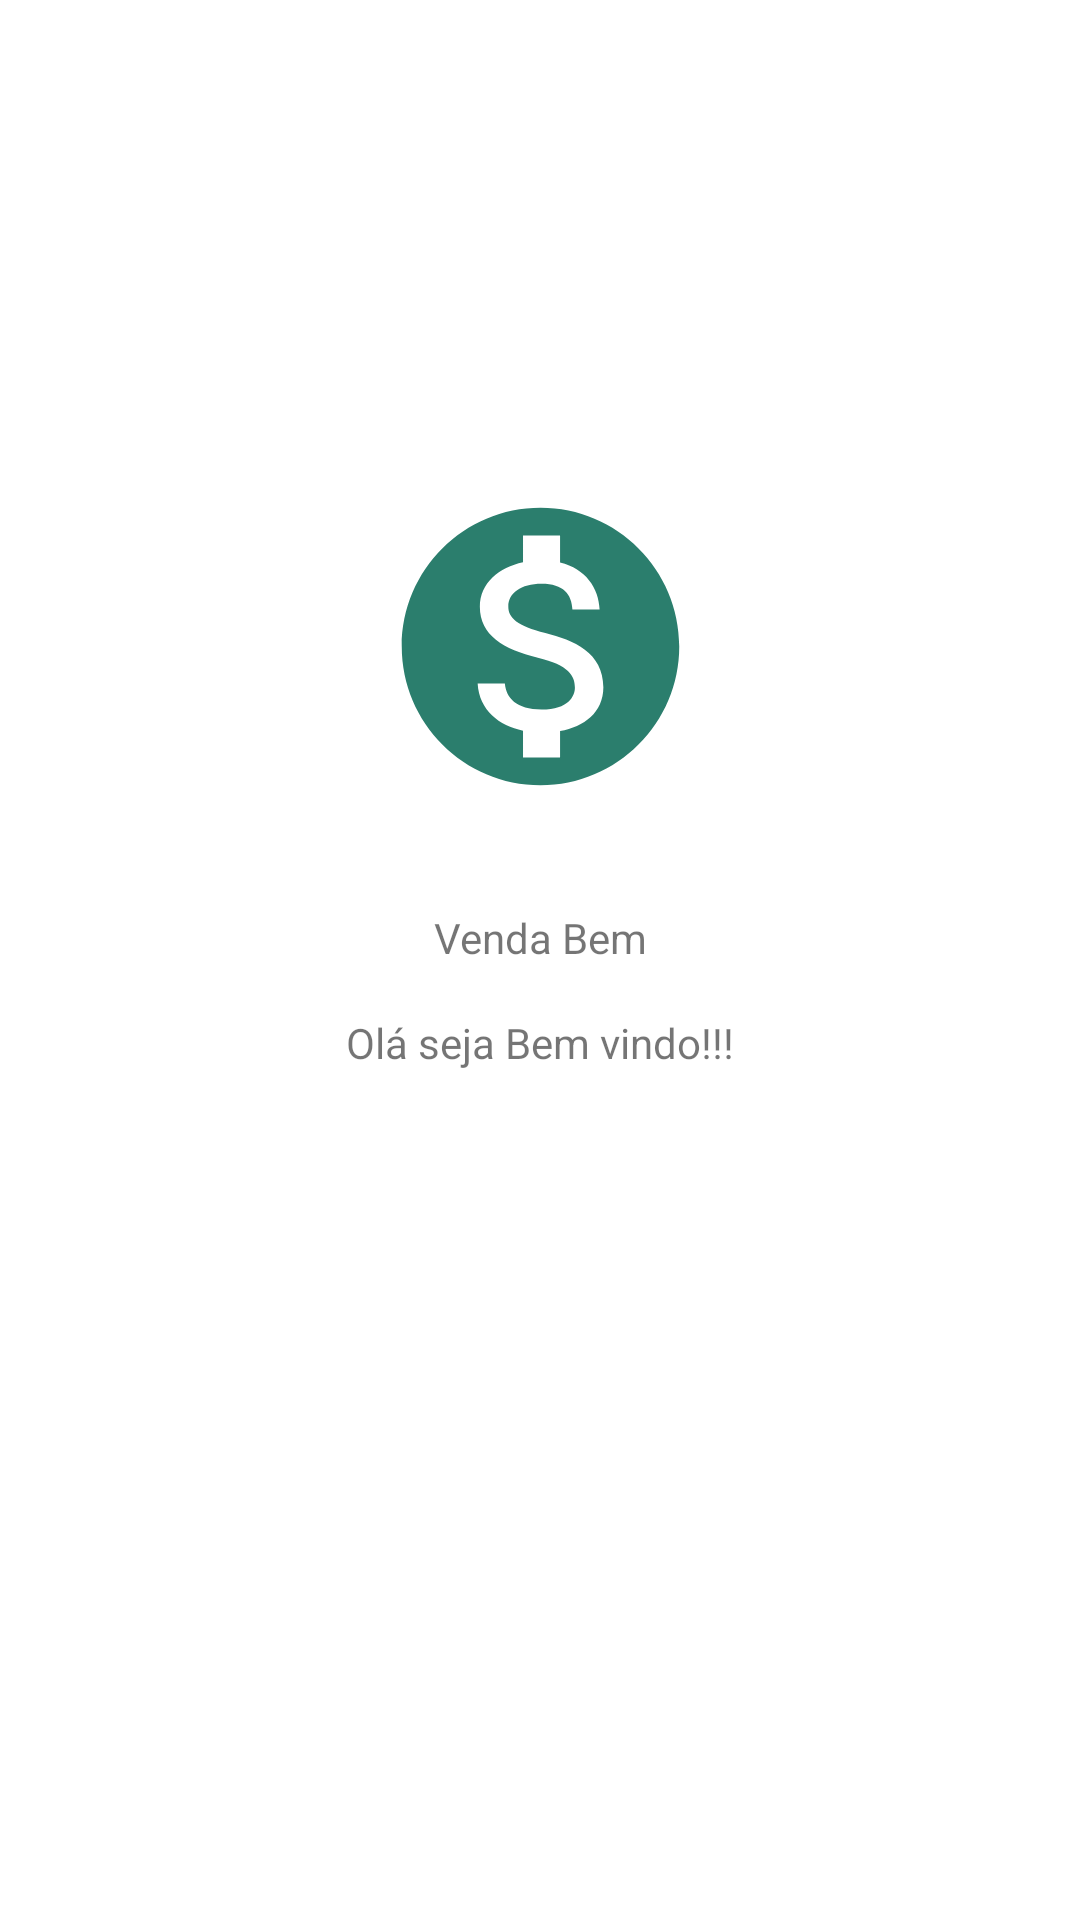

Icon click points for this 1080w x 1920h phone screenshot, format (x,y):
monetization on: (540,646)
